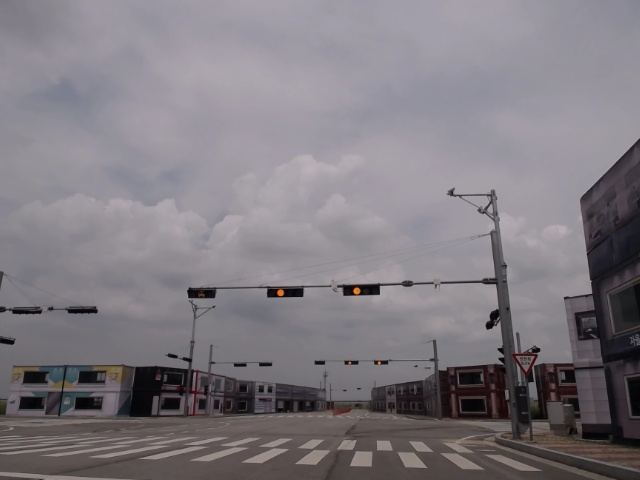orange_4: (341, 284, 381, 297), (265, 287, 305, 298), (343, 359, 361, 367), (372, 359, 392, 366)
